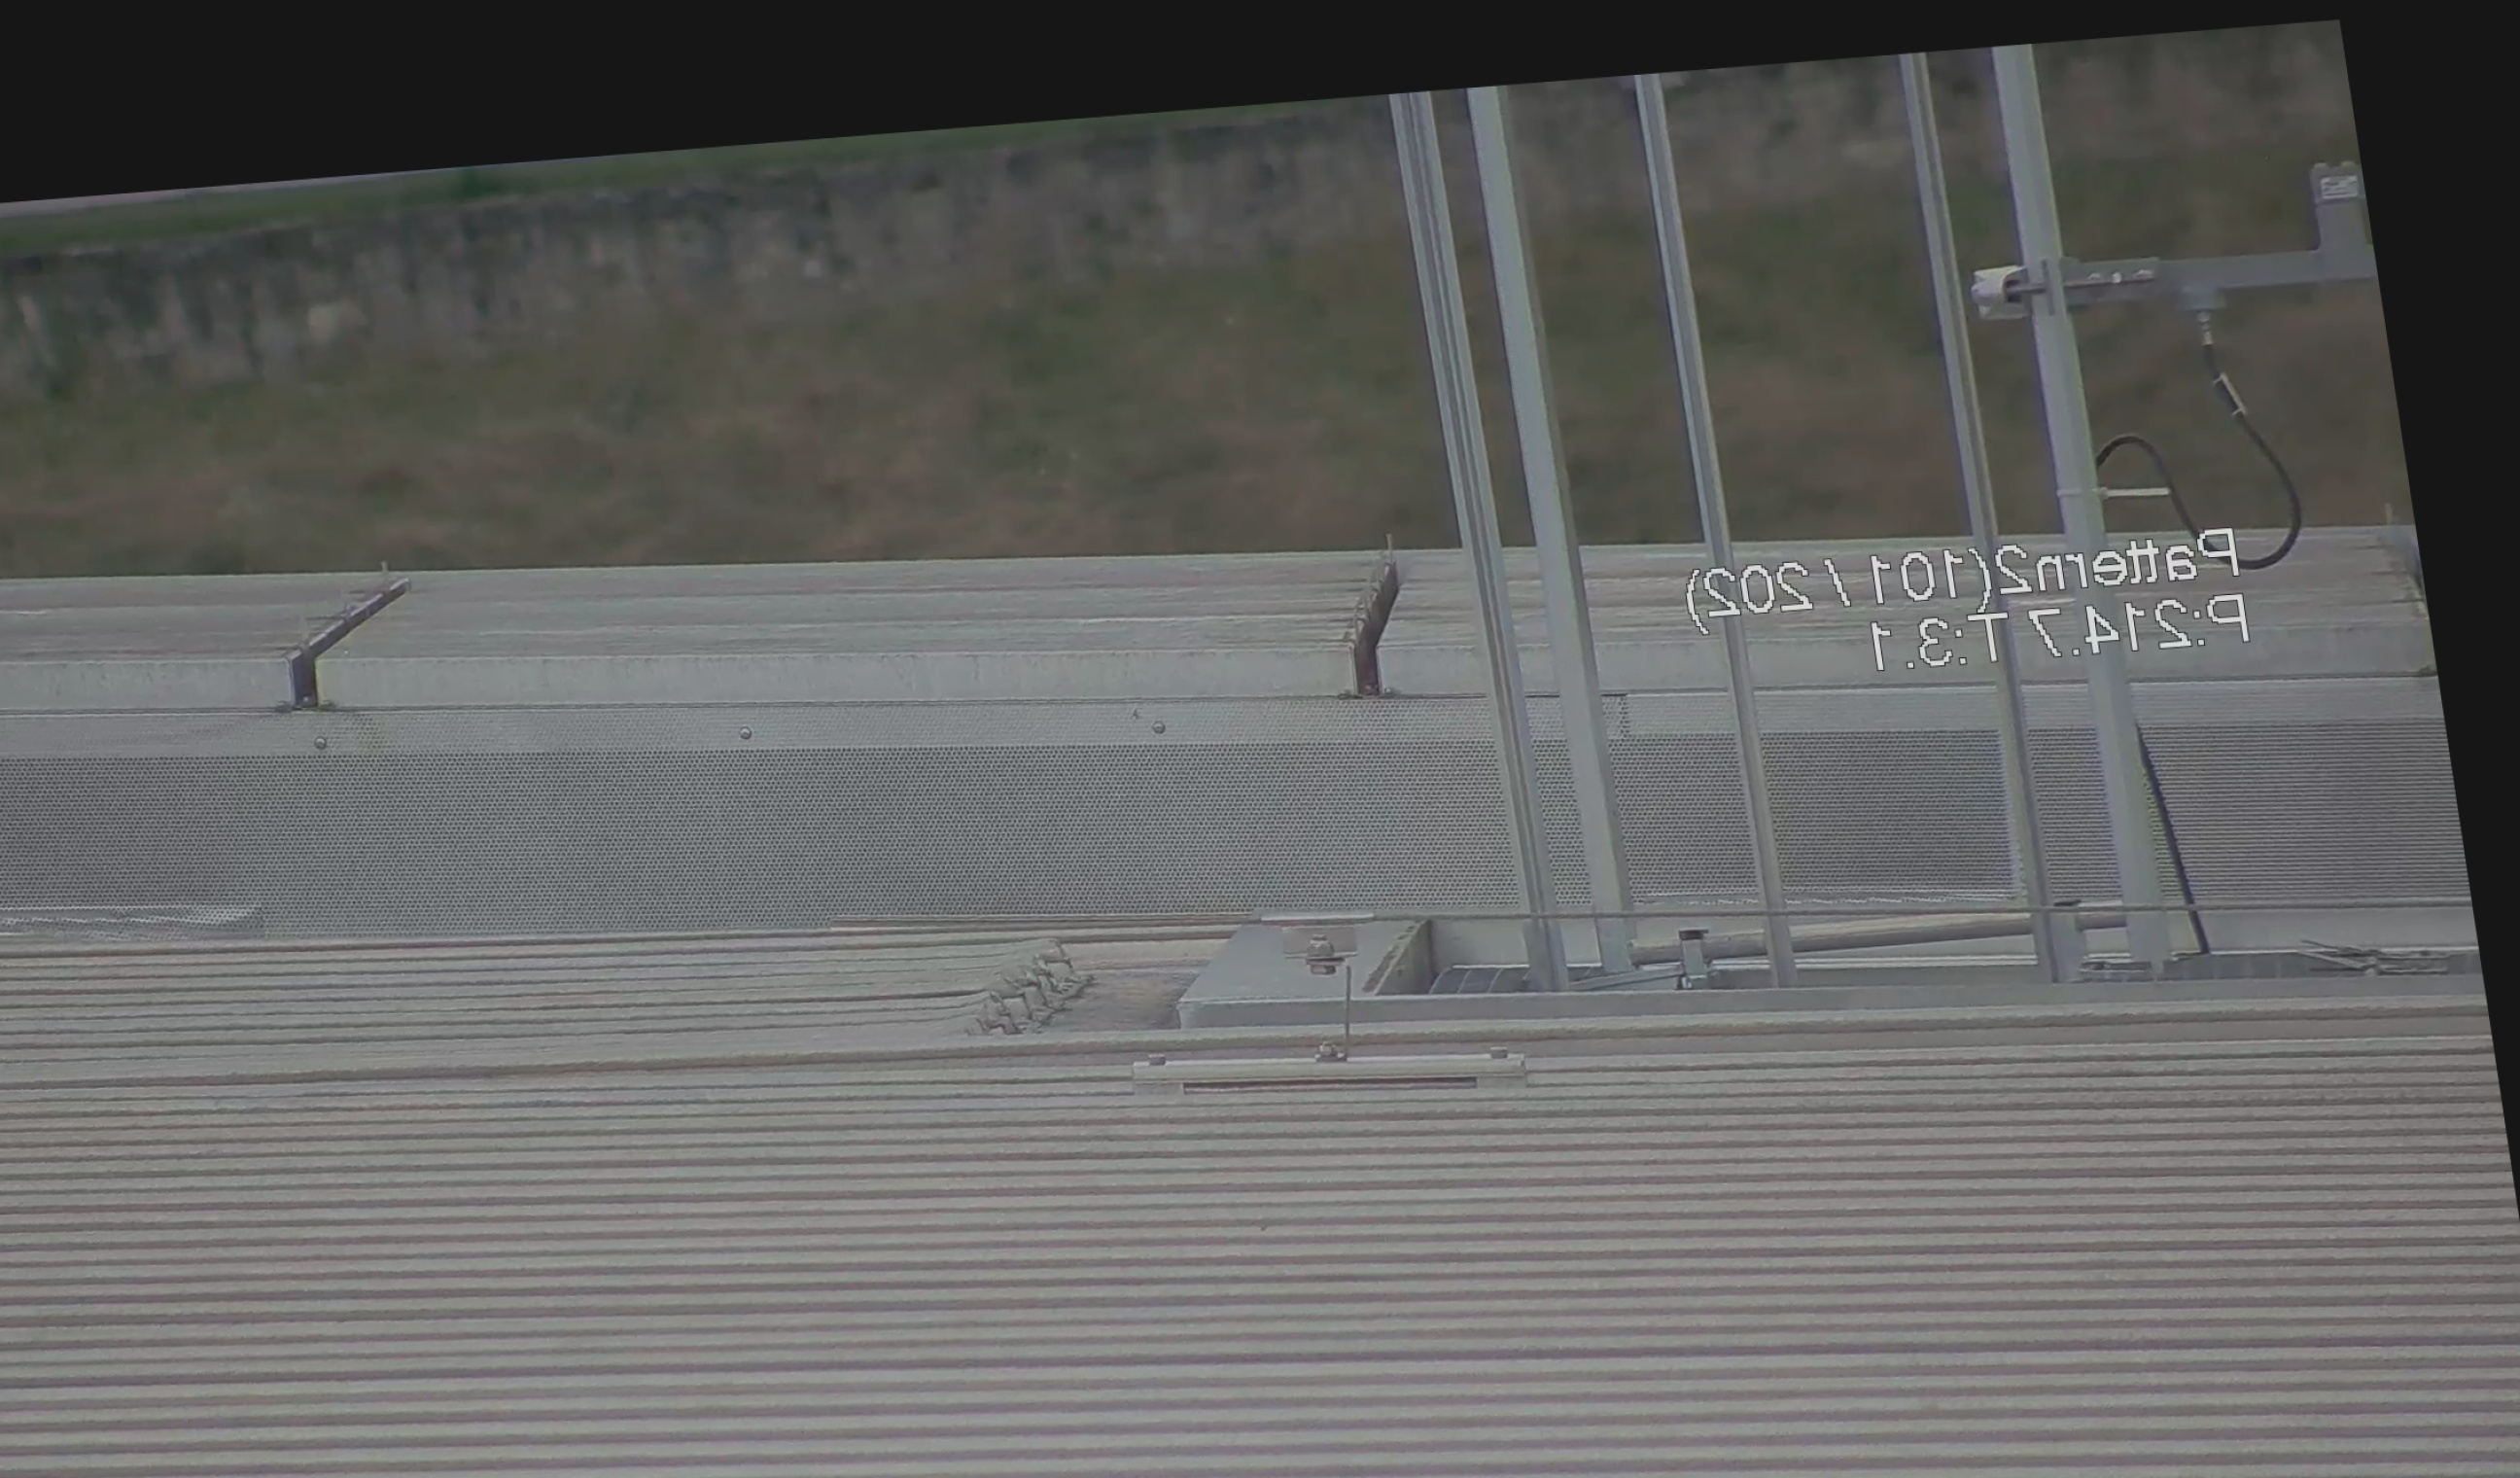Other: (1319, 531, 1446, 702)
